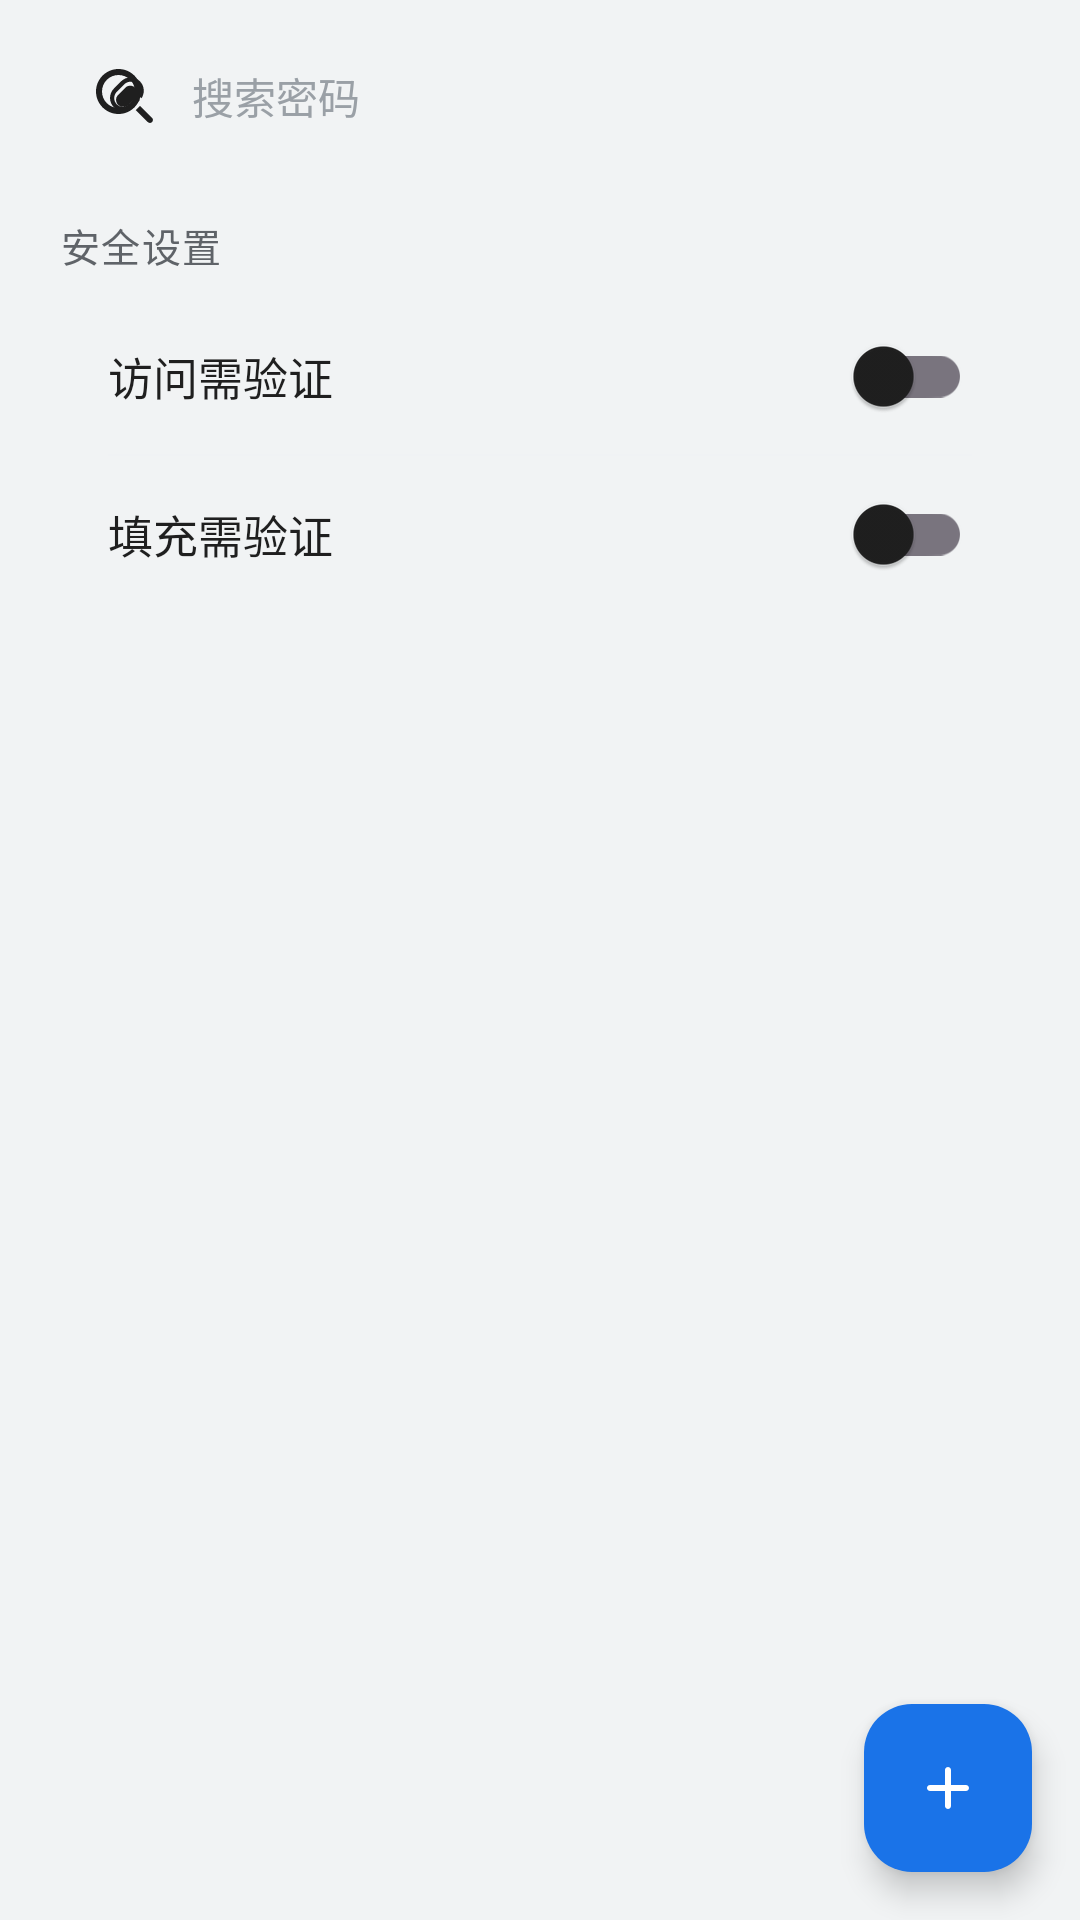

Named icons in this screenshot (1080w x 1920h) and their centers, (x,y):
添加密码: (948,1788)
